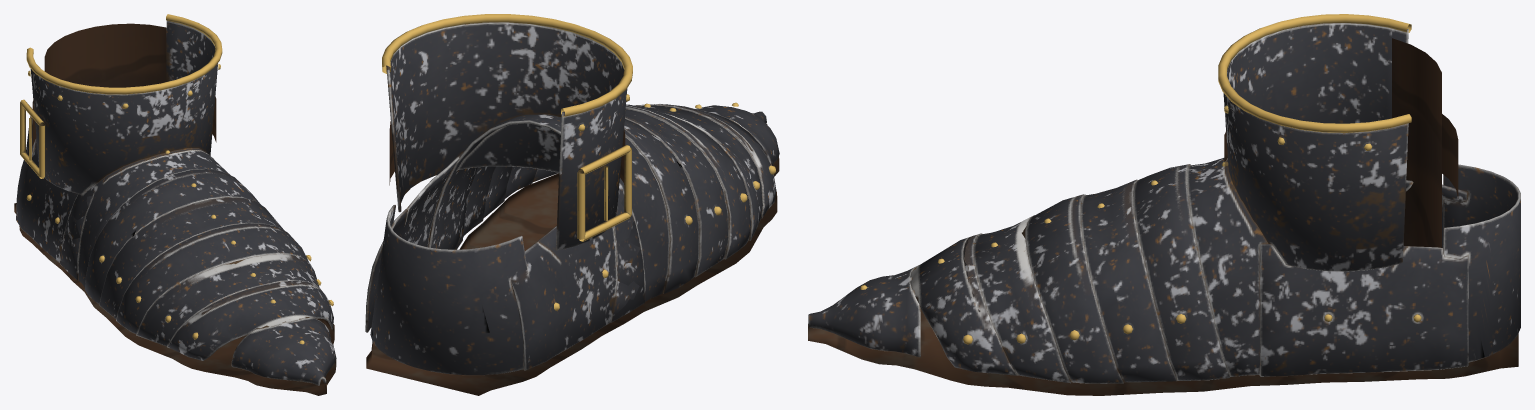
Rendered from SM_EagleSabatons_R_LOD1.fbx.
3 views of the same model, side by side, from view 1: azimuth 30°, elevation 25°; view 2: azimuth 150°, elevation 25°; view 3: azimuth 270°, elevation 25° (orthographic). The views are drawn at different scales.
Parts seen in each view (by area): view 1: SM_EagleSabatons_R_LOD1; view 2: SM_EagleSabatons_R_LOD1; view 3: SM_EagleSabatons_R_LOD1.
Part boxes in pixels (<box>): SM_EagleSabatons_R_LOD1: <box>14,14,336,395</box>; SM_EagleSabatons_R_LOD1: <box>365,14,779,395</box>; SM_EagleSabatons_R_LOD1: <box>808,14,1520,395</box>.
Bounding box in the file's own units: 0.1108 × 0.117 × 0.2808.
